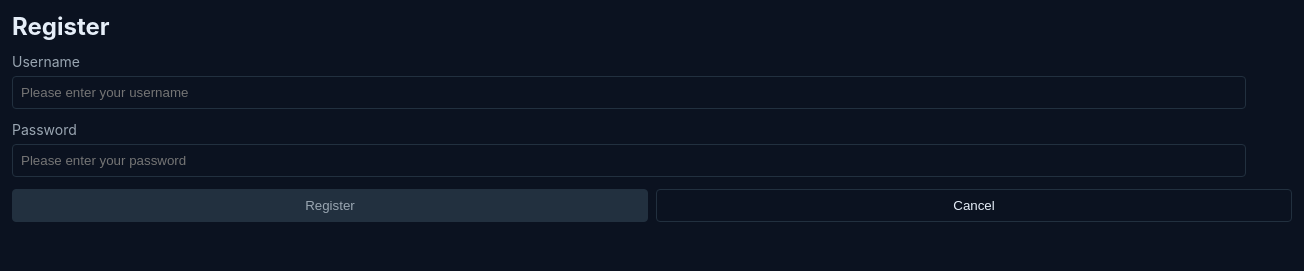
Register › shows backend string error
In the field labelled "Username": {"x": 629, "y": 92} [12,76,1246,109], type "alice"
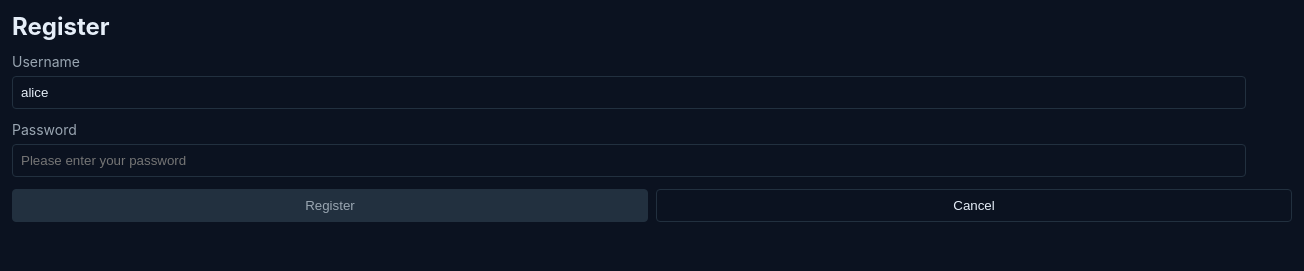
In the password field labelled "Password": {"x": 629, "y": 160} [12,144,1246,177], type "secret"
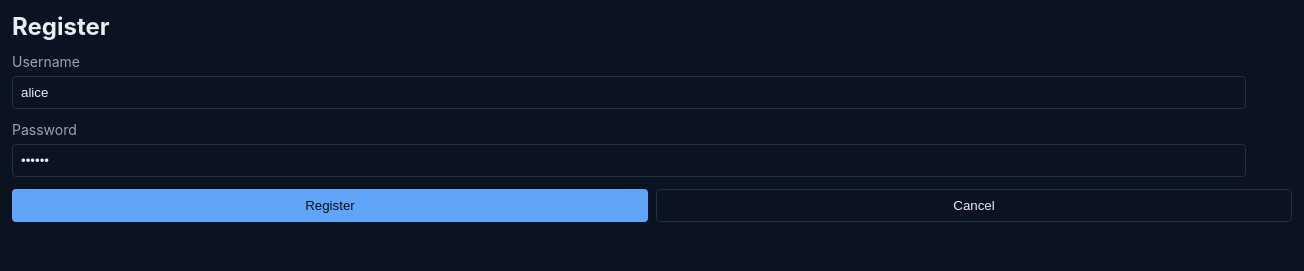
Click the button "Register": {"x": 330, "y": 206} [12,189,648,222]
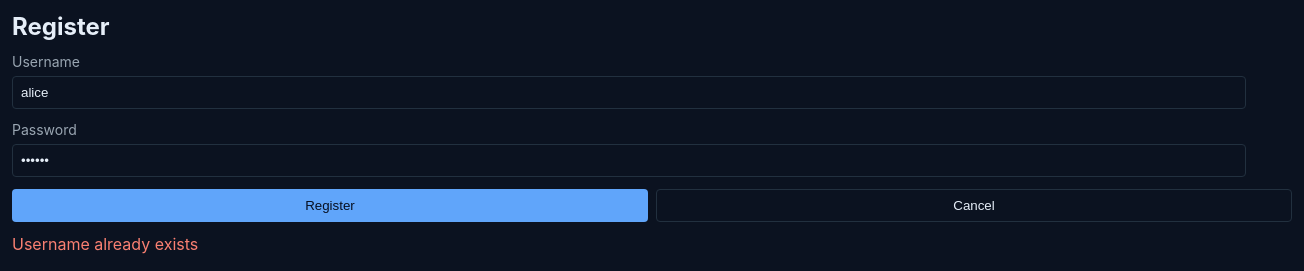
expect the text "Username already exists" is shown: met, box [12,234,198,254]
